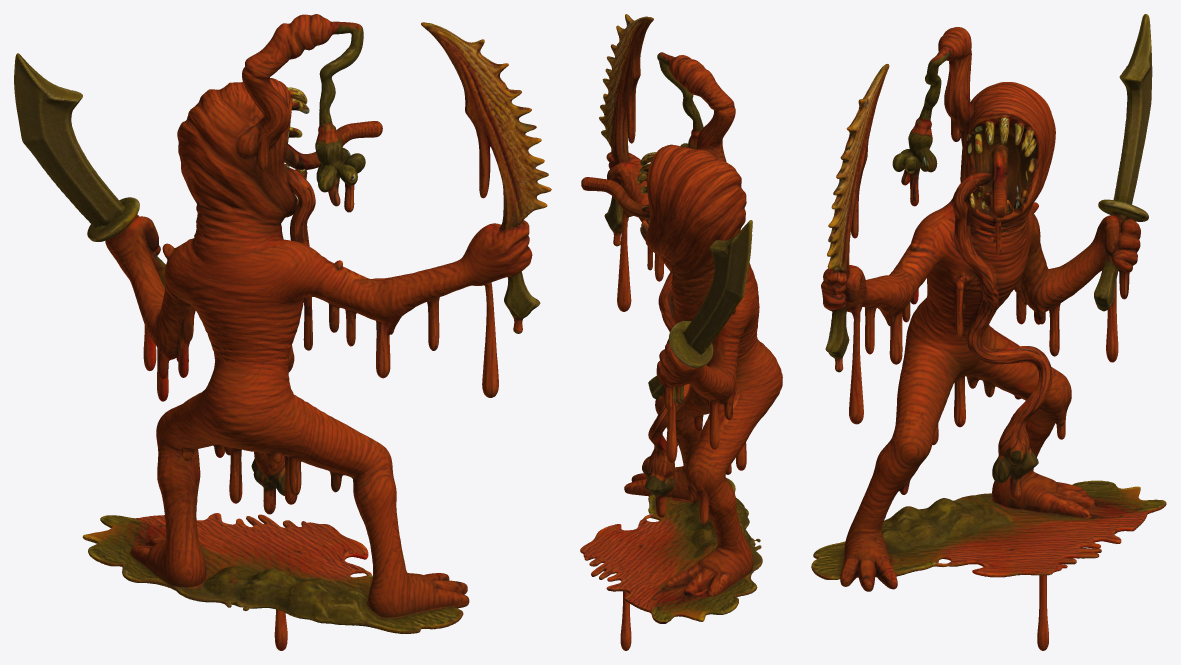
Rendered from BC-Warrior2.glb.
3 renders of one model, left to right at view 1: azimuth 30°, elevation 25°; view 2: azimuth 150°, elevation 25°; view 3: azimuth 270°, elevation 25°, orthographic. The views are drawn at different scales.
Parts seen in each view (by area): view 1: tripo_node_09524aa9-b696-4d30-8ea6-758d35860f47; view 2: tripo_node_09524aa9-b696-4d30-8ea6-758d35860f47; view 3: tripo_node_09524aa9-b696-4d30-8ea6-758d35860f47.
Boxes of the visible parts, box(x1,y1,x2,y2) form: tripo_node_09524aa9-b696-4d30-8ea6-758d35860f47: box(14, 14, 551, 650); tripo_node_09524aa9-b696-4d30-8ea6-758d35860f47: box(580, 14, 782, 650); tripo_node_09524aa9-b696-4d30-8ea6-758d35860f47: box(811, 14, 1166, 650).
Size of the model in its own units: 0.5552 by 1 by 0.5271.
1 material, 1 textured.
